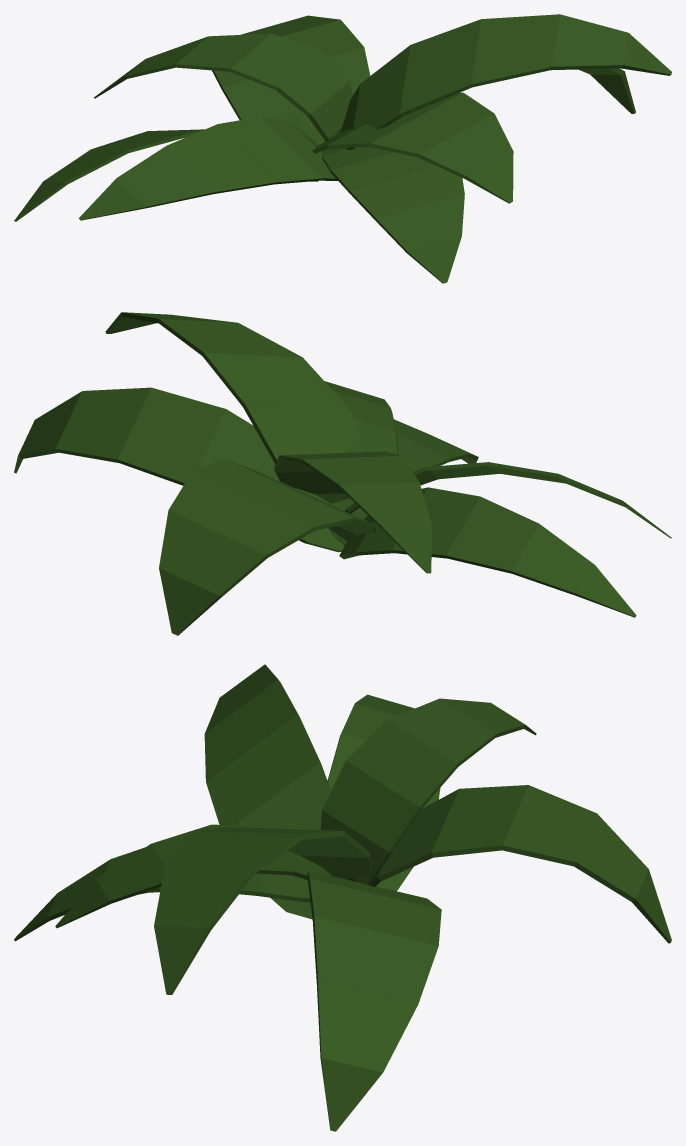
File: SM_bush_leaves_02.fbx
3 views of the same model, one above another, from view 1: azimuth 30°, elevation 25°; view 2: azimuth 150°, elevation 25°; view 3: azimuth 270°, elevation 25° (orthographic). The views are drawn at different scales.
Visible parts, largest first — view 1: Object126; view 2: Object126; view 3: Object126.
Part boxes in pixels (x1,y1,x2,y2): Object126: (14, 14, 671, 283); Object126: (14, 312, 671, 635); Object126: (14, 664, 671, 1131).
Bounding box in the file's own units: 109 × 77.65 × 26.58.
